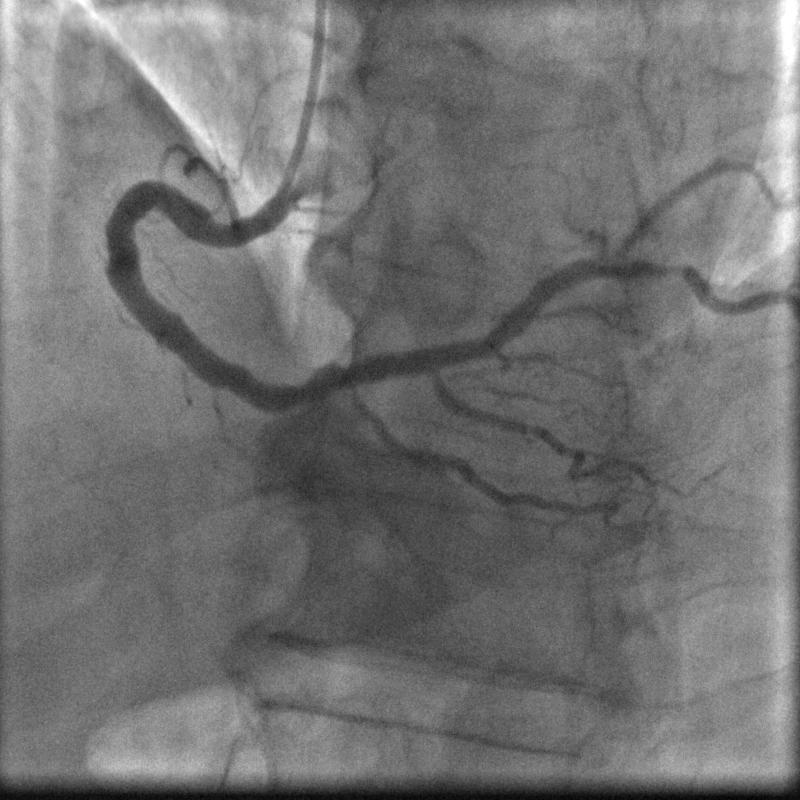Stenosis: (635, 255, 695, 280)
